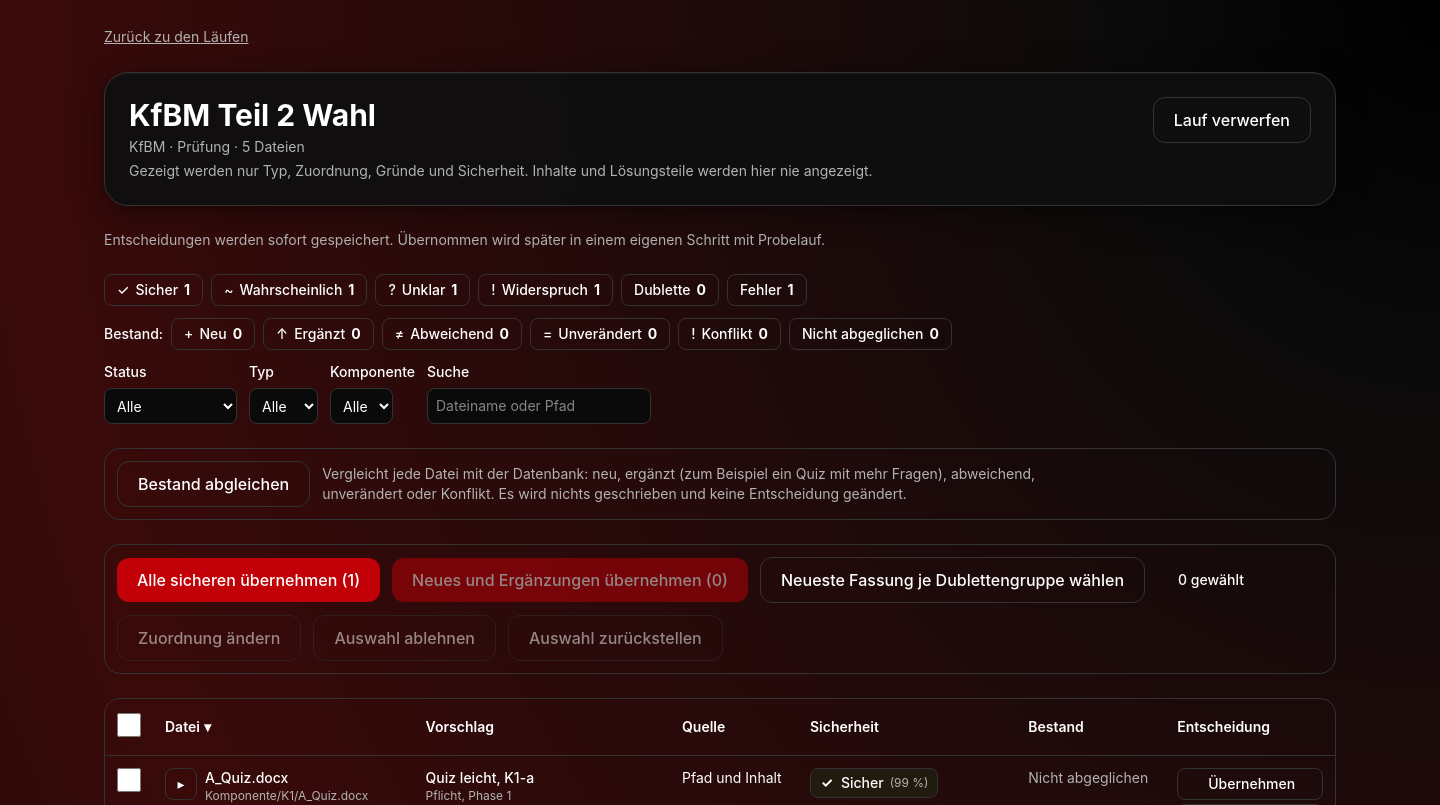
Test case: ReviewView: the table › selects the rows of a page with one box that shows a partial selection
This screenshot has width=1440, height=805.
Click the checkbox named "Datei A_Quiz.docx auswählen" at coordinates (129, 780), box [117, 768, 141, 792]
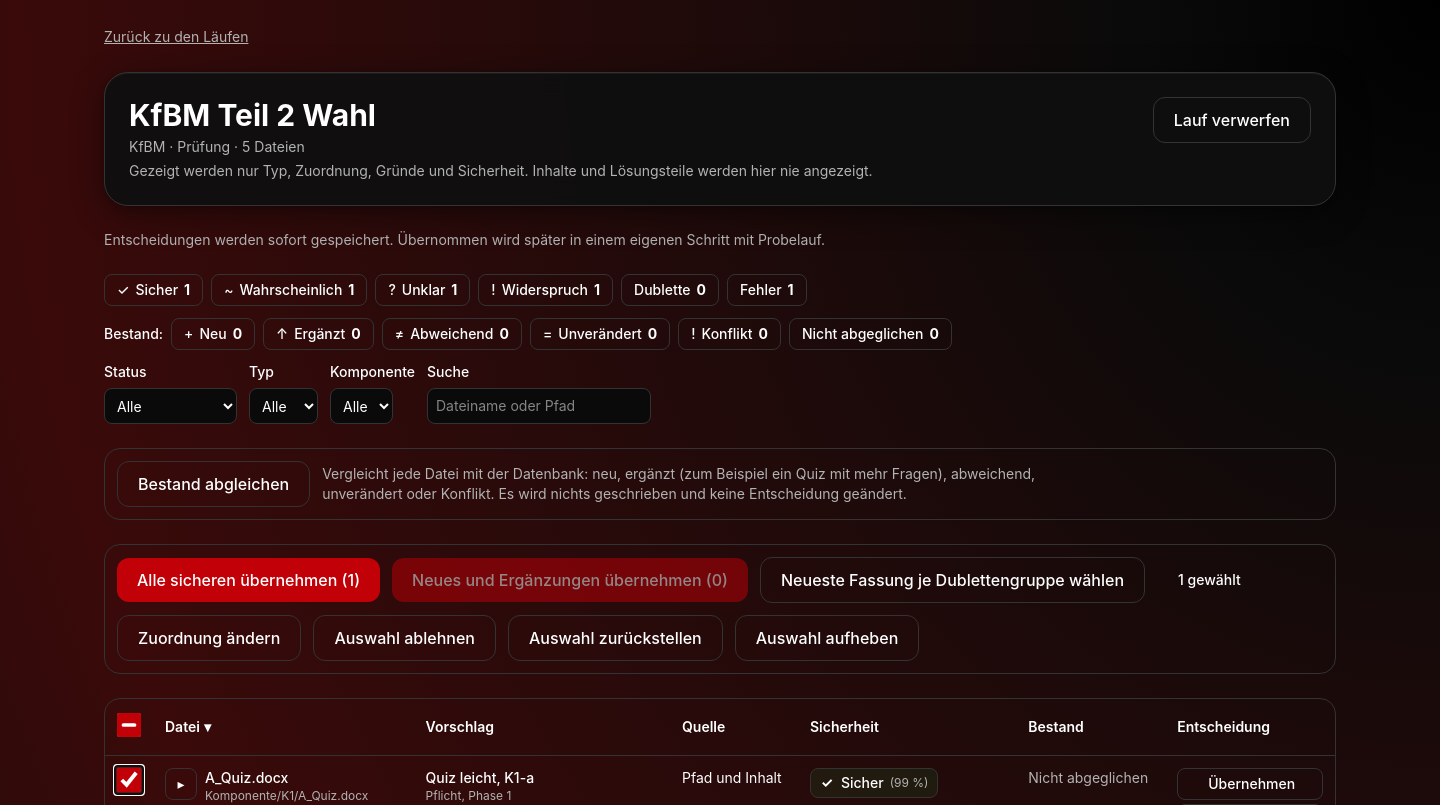
Check: the text "1 gewählt" is shown, box [1178, 570, 1241, 590]
Click the checkbox named "Alle Zeilen dieser Seite auswählen" at coordinates (129, 724), box [117, 712, 141, 736]
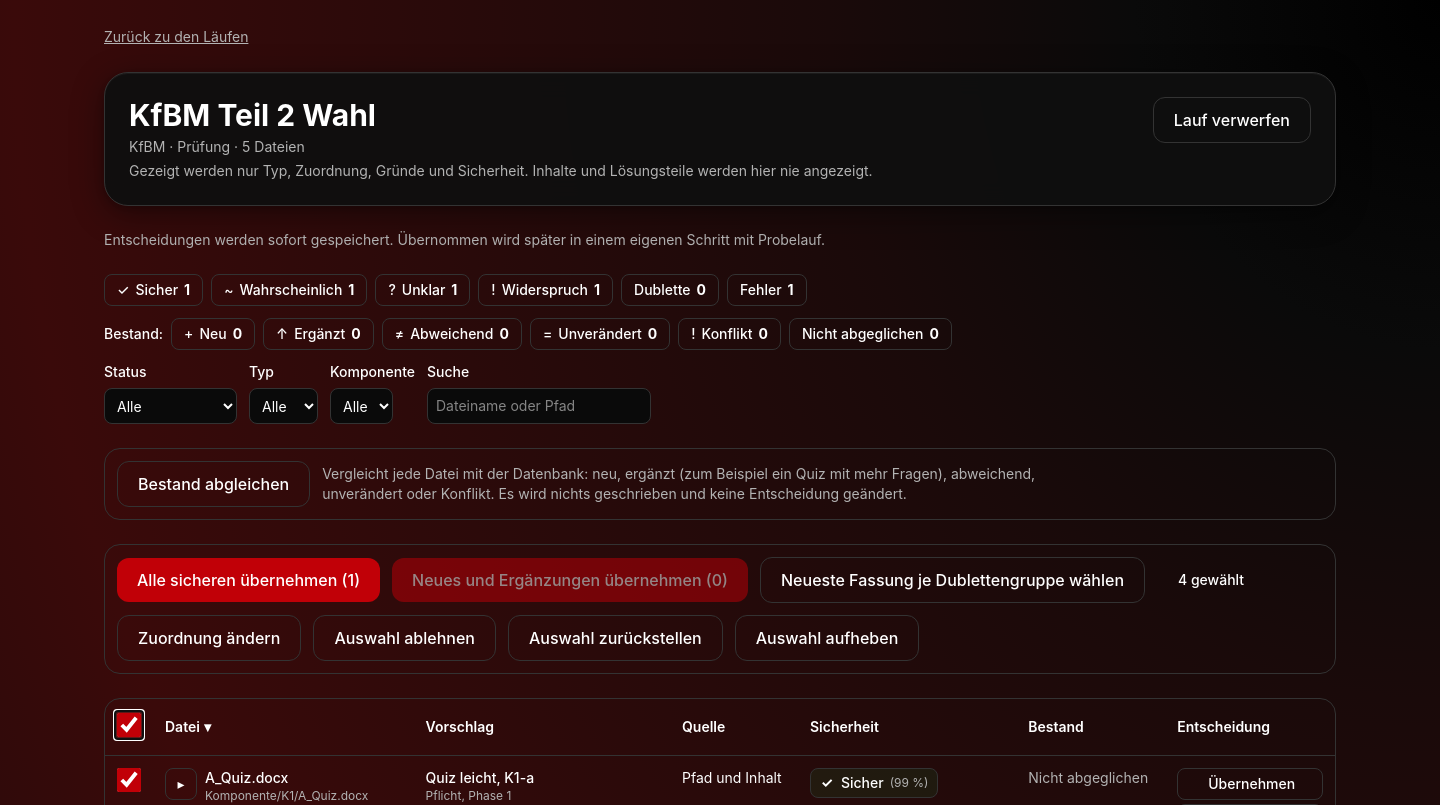
Check: the text "4 gewählt" is shown, box [1178, 570, 1244, 590]
Click the checkbox named "Alle Zeilen dieser Seite auswählen" at coordinates (129, 724), box [117, 712, 141, 736]
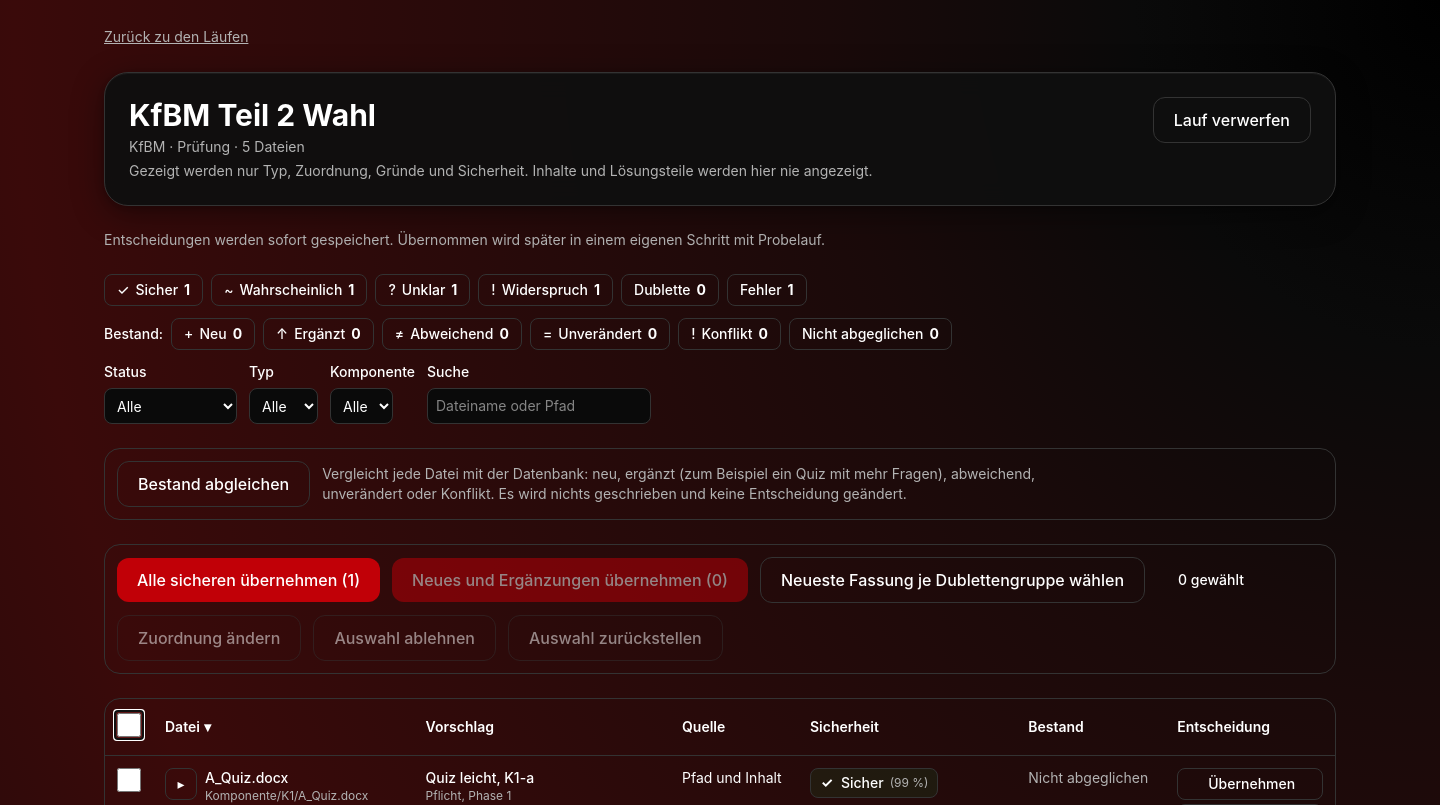
Check: the text "0 gewählt" is shown, box [1178, 570, 1244, 590]
